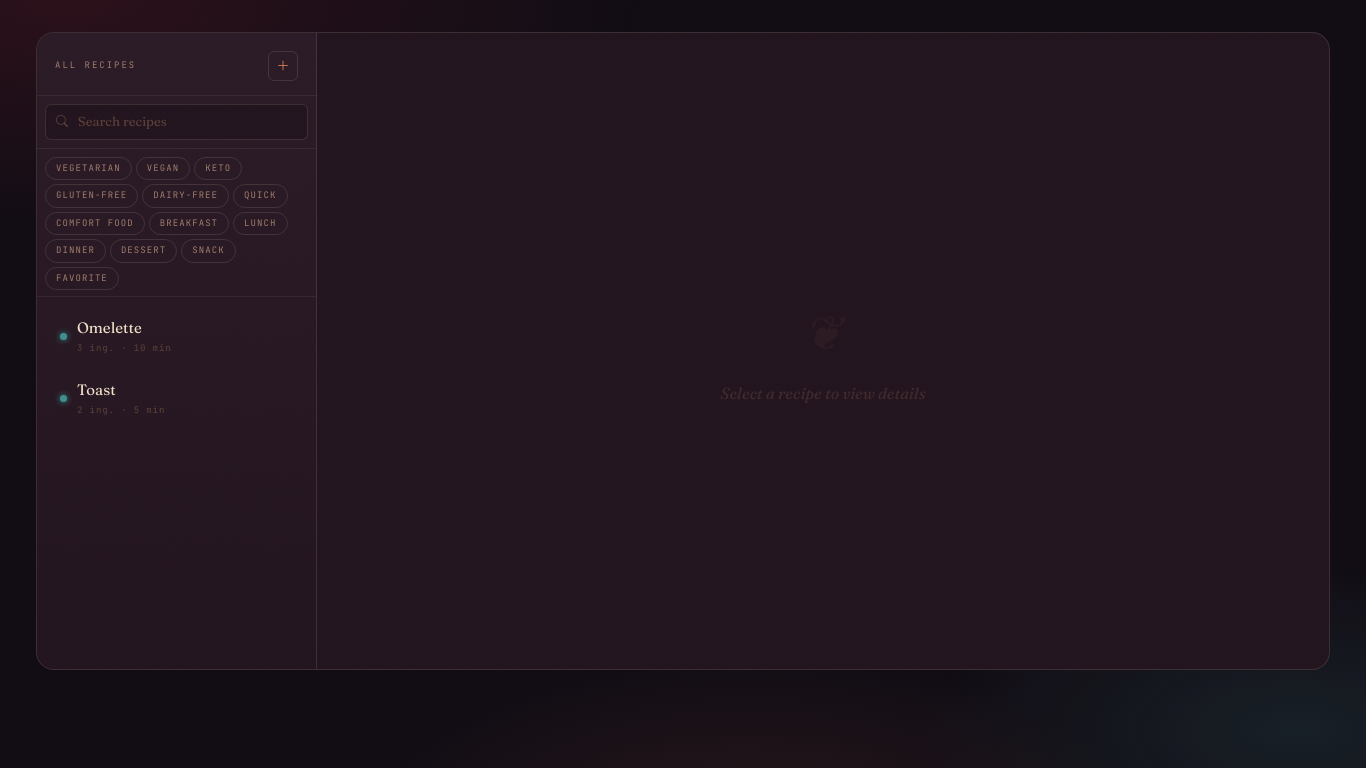
Test: add recipe form › opens the add modal when the + button is clicked
Click the button titled "New Recipe" at point(283, 66), box x1=268 y1=51 x2=298 y2=81
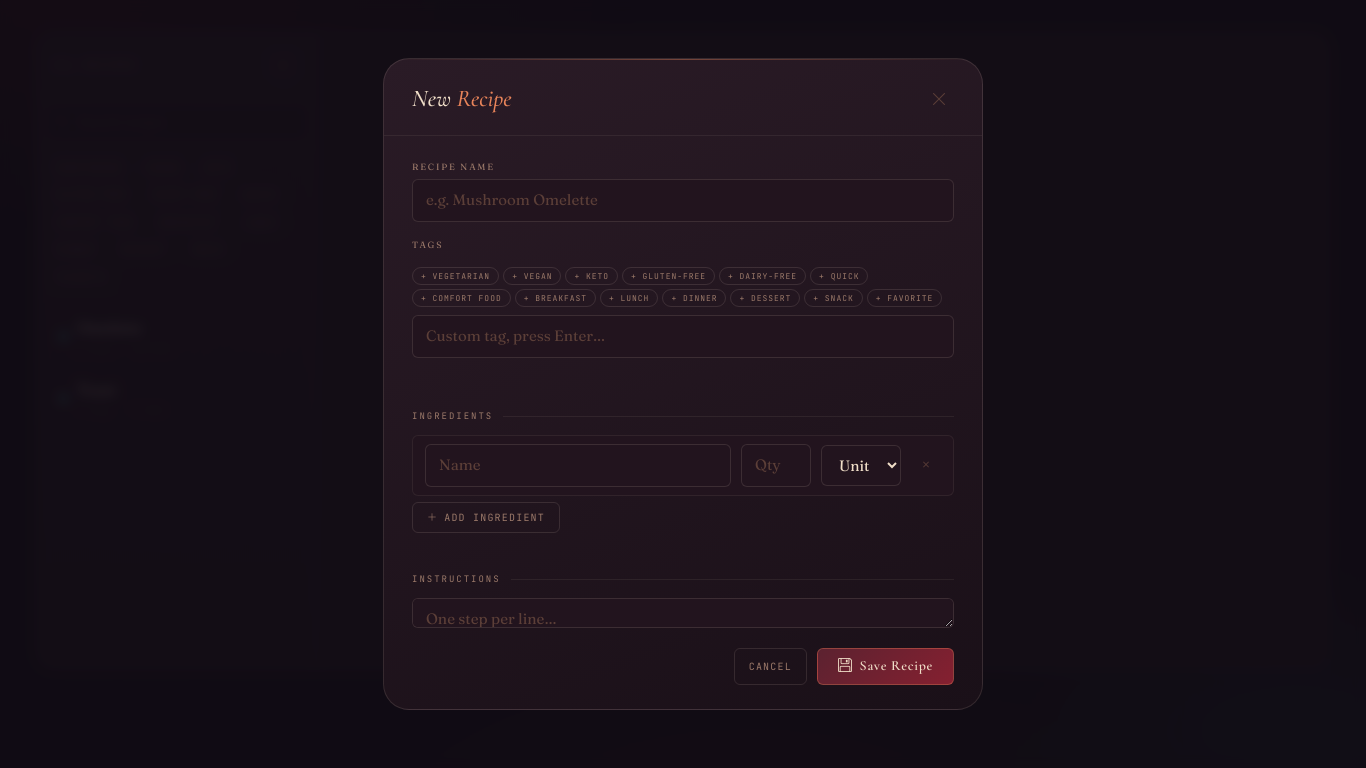
Check: the field with placeholder "e.g. Mushroom Omelette" is shown, box x1=412 y1=179 x2=954 y2=222
